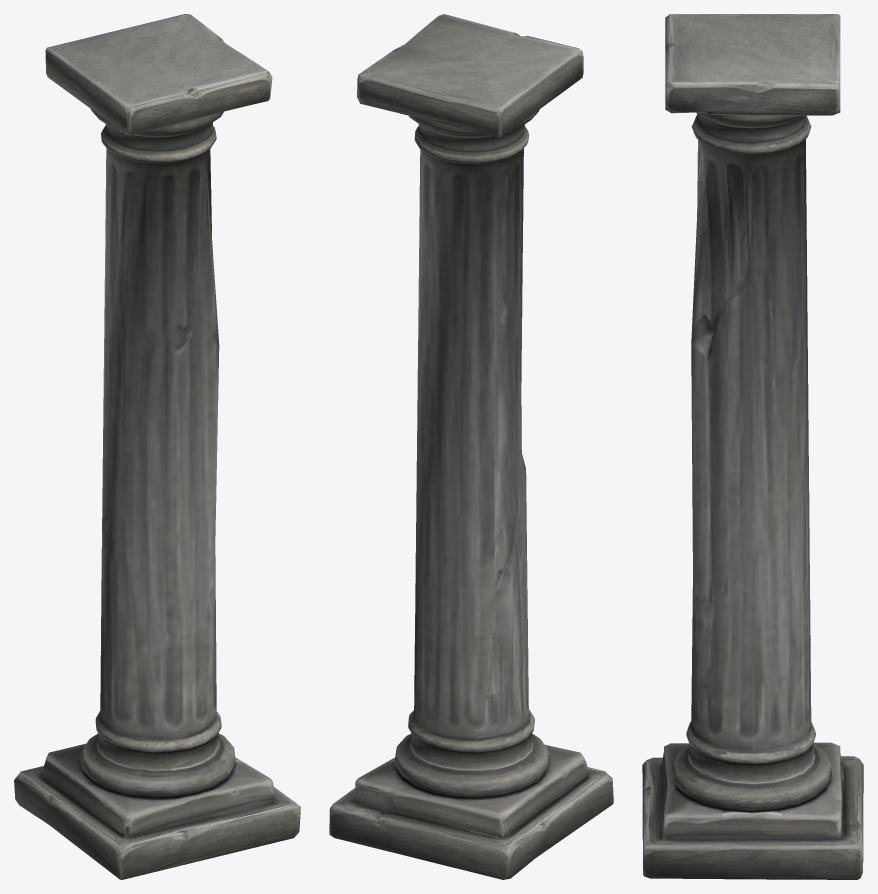
File: column.glb
The picture shows the model from 3 angles, left to right: view 1: azimuth 30°, elevation 25°; view 2: azimuth 150°, elevation 25°; view 3: azimuth 270°, elevation 25°; orthographic projection. The views are drawn at different scales.
Visible parts, largest first — view 1: column; view 2: column; view 3: column.
Boxes of the visible parts, bbox=[...] form: column: bbox=[14, 14, 300, 879]; column: bbox=[329, 14, 613, 879]; column: bbox=[642, 14, 863, 879].
Bounding box in the file's own units: 0.2505 × 0.9995 × 0.2544.
1 material, 1 textured.
